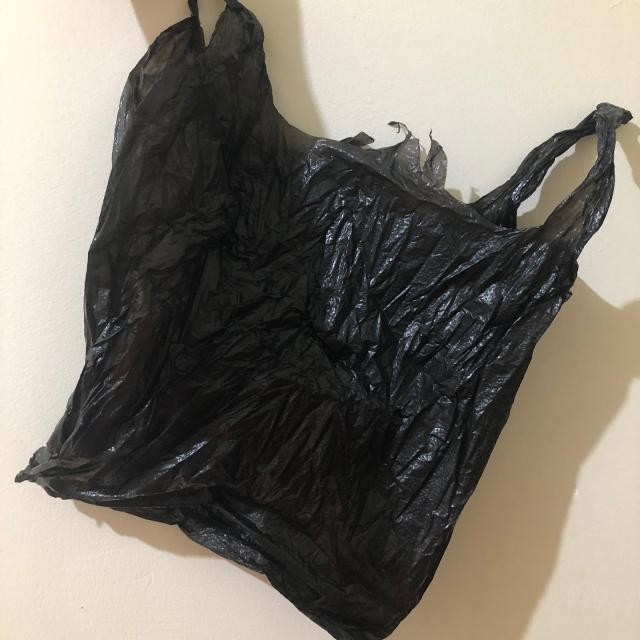non-organik: (19, 1, 634, 632)
